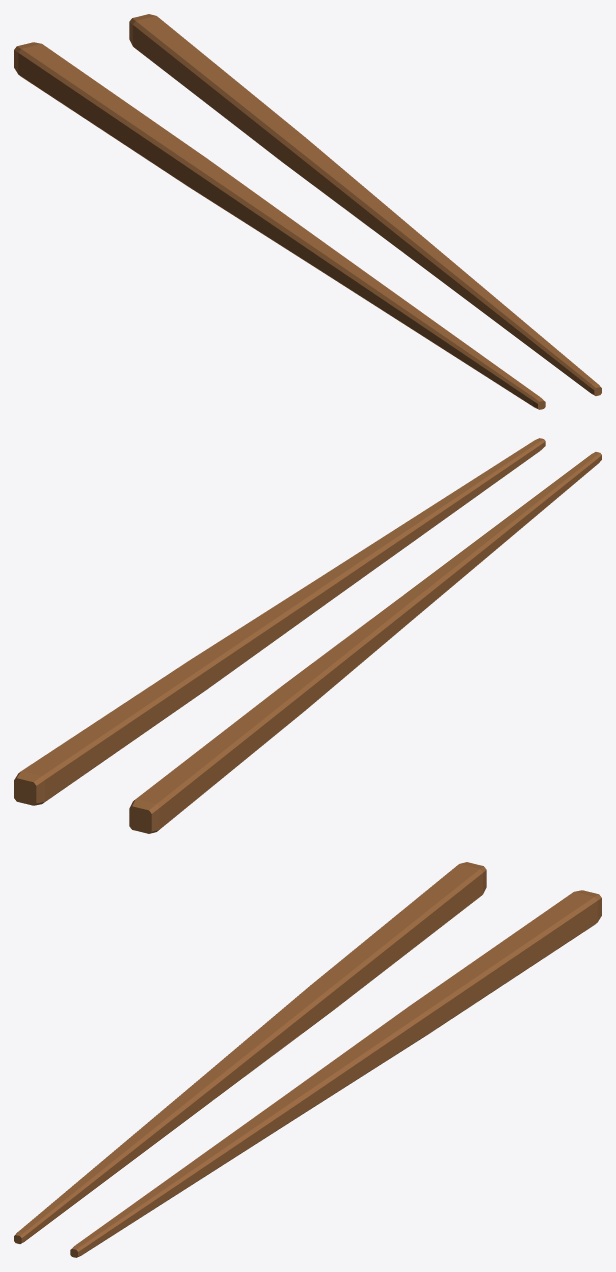
Rendered from NEW_RECOVERY_079_LOD1.glb.
3 renders of one model, top to bottom at view 1: azimuth 30°, elevation 25°; view 2: azimuth 150°, elevation 25°; view 3: azimuth 330°, elevation 25°, orthographic.
Visible parts, largest first — view 1: Chopstick 1, Chopstick 2; view 2: Chopstick 2, Chopstick 1; view 3: Chopstick 2, Chopstick 1.
Boxes of the visible parts, x1=… form: Chopstick 1: x1=14, y1=42, x2=545, y2=409; Chopstick 2: x1=129, y1=14, x2=601, y2=395; Chopstick 2: x1=14, y1=438, x2=545, y2=805; Chopstick 1: x1=129, y1=452, x2=601, y2=833; Chopstick 2: x1=70, y1=890, x2=601, y2=1257; Chopstick 1: x1=14, y1=862, x2=486, y2=1243.
Size of the model in its own units: 0.0402 by 0.0076 by 0.24.
